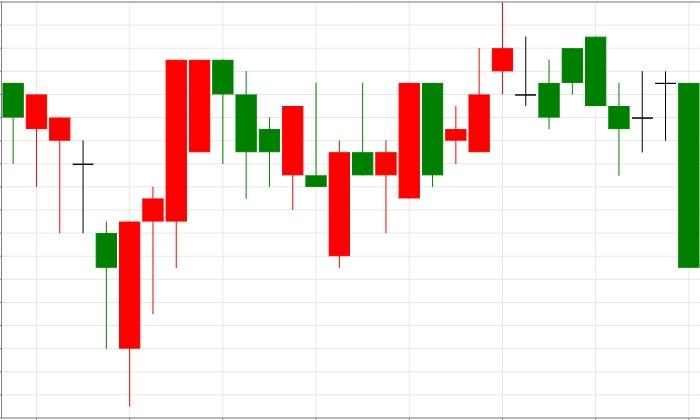bullish_engulfing_rise: (25, 94, 141, 406)
hanging_man_fall: (119, 59, 234, 406)
